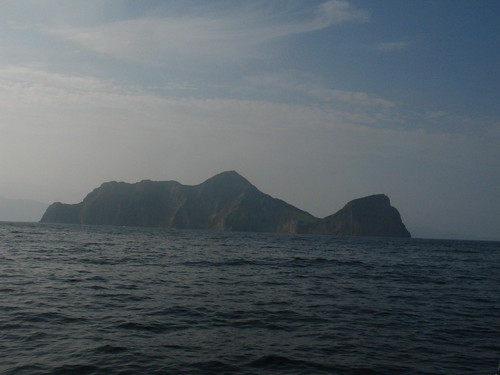turtleIsland: (35, 165, 410, 241)
